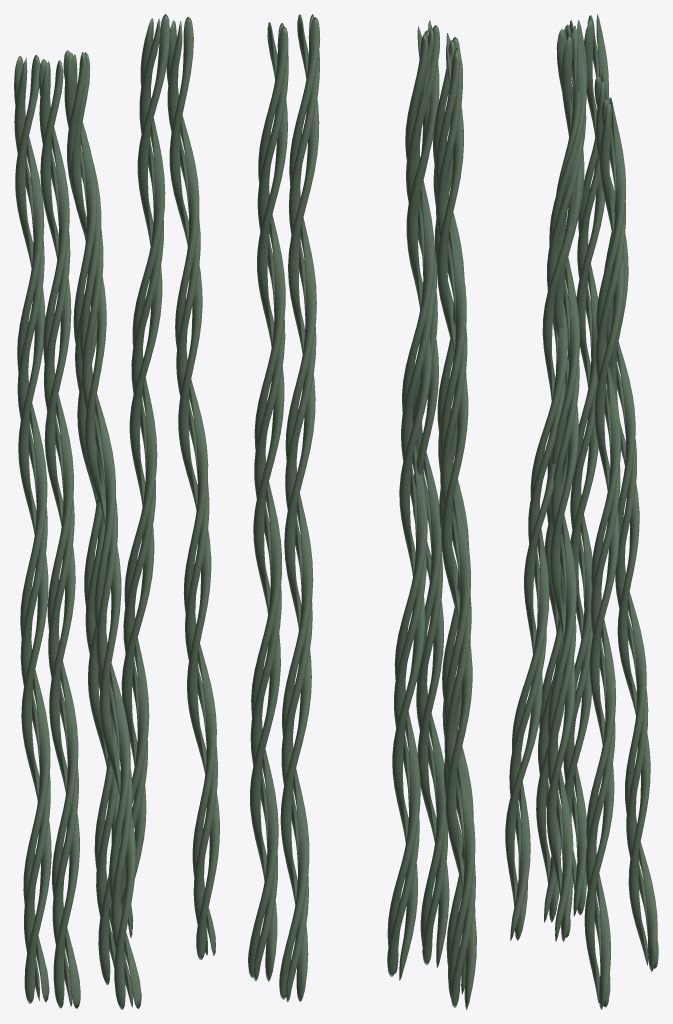
The model's file is pont_vigne_v001.fbx.
The picture shows the model from 3 angles, left to right: view 1: azimuth 30°, elevation 25°; view 2: azimuth 150°, elevation 25°; view 3: azimuth 270°, elevation 25°; orthographic projection. The views are drawn at different scales.
Parts seen in each view (by area): view 1: pasted__with_feuille_pasted__pHelix4 (×4), pasted__pasted__pasted__with_feuille_pasted__pHelix4, pasted__pasted__with_feuille_pasted__pHelix4; view 2: pasted__with_feuille_pasted__pHelix4 (×4), pasted__pasted__pasted__with_feuille_pasted__pHelix4, pasted__pasted__with_feuille_pasted__pHelix4; view 3: pasted__with_feuille_pasted__pHelix4 (×4), pasted__pasted__with_feuille_pasted__pHelix4, pasted__pasted__pasted__with_feuille_pasted__pHelix4.
Part boxes in pixels (<box>): pasted__with_feuille_pasted__pHelix4 (×4): <box>39,14,219,1009</box>; pasted__pasted__pasted__with_feuille_pasted__pHelix4: <box>14,55,51,1003</box>; pasted__pasted__with_feuille_pasted__pHelix4: <box>63,50,126,984</box>; pasted__with_feuille_pasted__pHelix4 (×4): <box>248,14,475,1002</box>; pasted__pasted__pasted__with_feuille_pasted__pHelix4: <box>435,45,476,1009</box>; pasted__pasted__with_feuille_pasted__pHelix4: <box>387,20,439,980</box>; pasted__with_feuille_pasted__pHelix4 (×4): <box>505,20,658,1009</box>; pasted__pasted__with_feuille_pasted__pHelix4: <box>546,25,582,941</box>; pasted__pasted__pasted__with_feuille_pasted__pHelix4: <box>563,14,608,916</box>.
Bounding box in the file's own units: 128 × 571 × 87.06.
